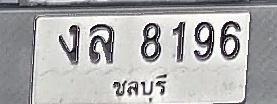1: (172, 21, 185, 62)
6: (220, 20, 240, 60)
8: (140, 22, 162, 62)
9: (194, 20, 214, 61)
A07: (58, 24, 80, 64)
A36: (89, 23, 114, 64)
CBI: (109, 70, 169, 102)
